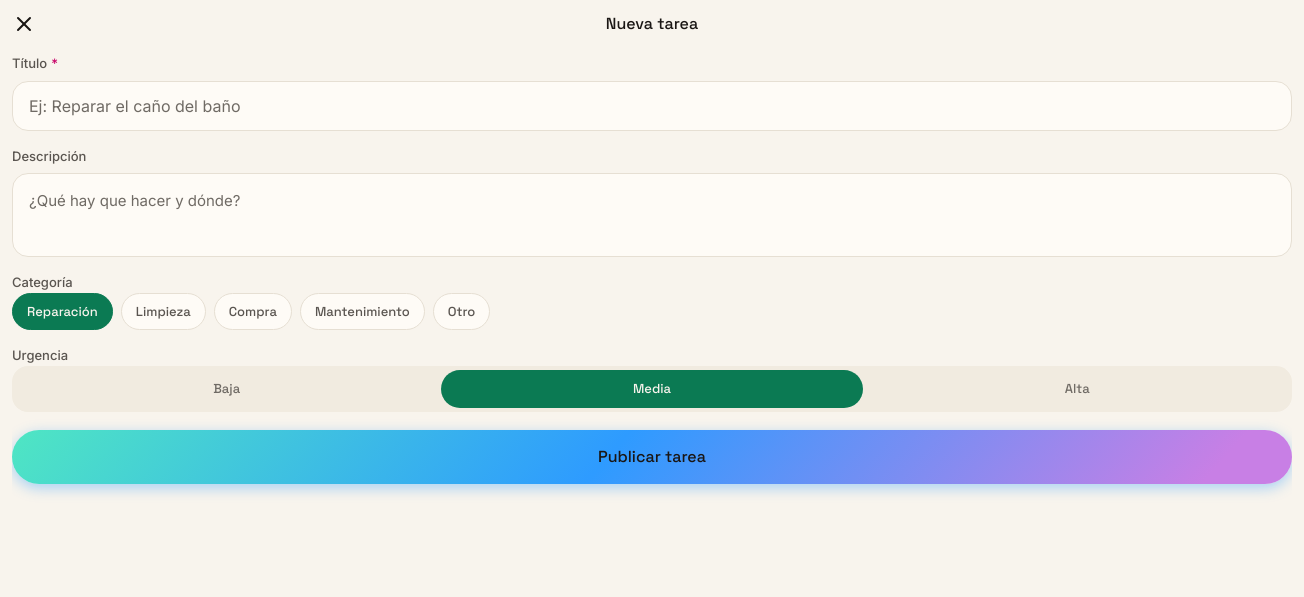
Test: NewTaskForm — Category (AC4) › asks which one only while Otro is checked (ZER-208)
Check: the field labelled "¿Cuál?" is not shown
Click the checkbox labelled "Otro" at (462, 311), box [433, 292, 490, 330]
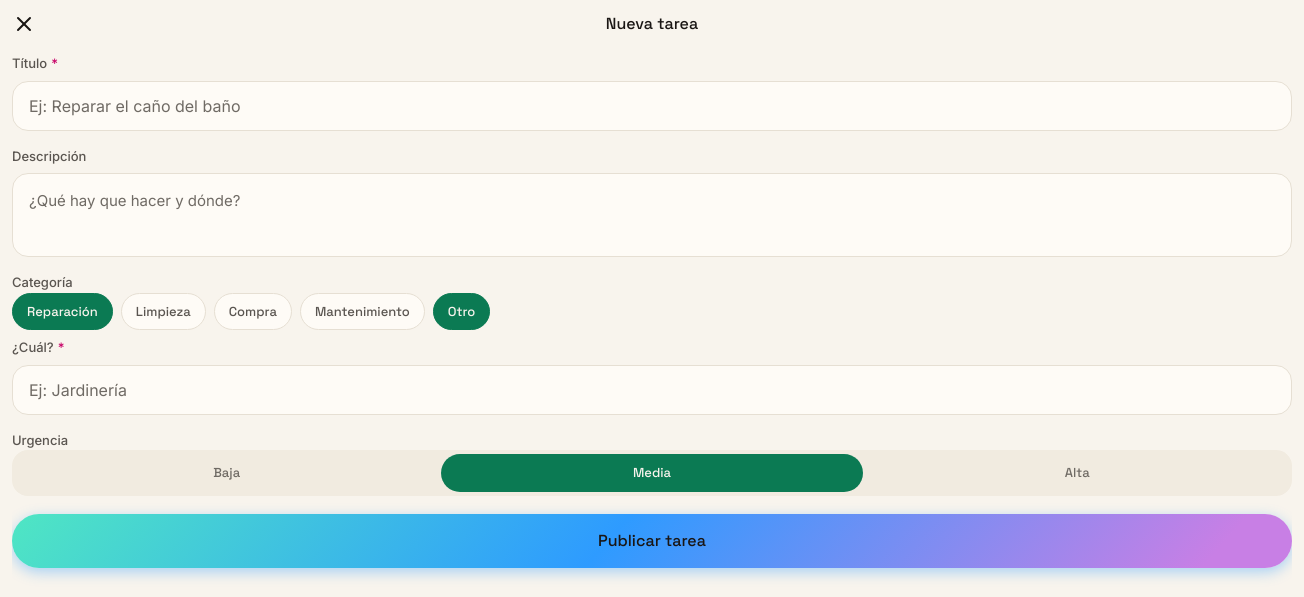
Click the checkbox labelled "Otro" at (462, 311), box [433, 292, 490, 330]
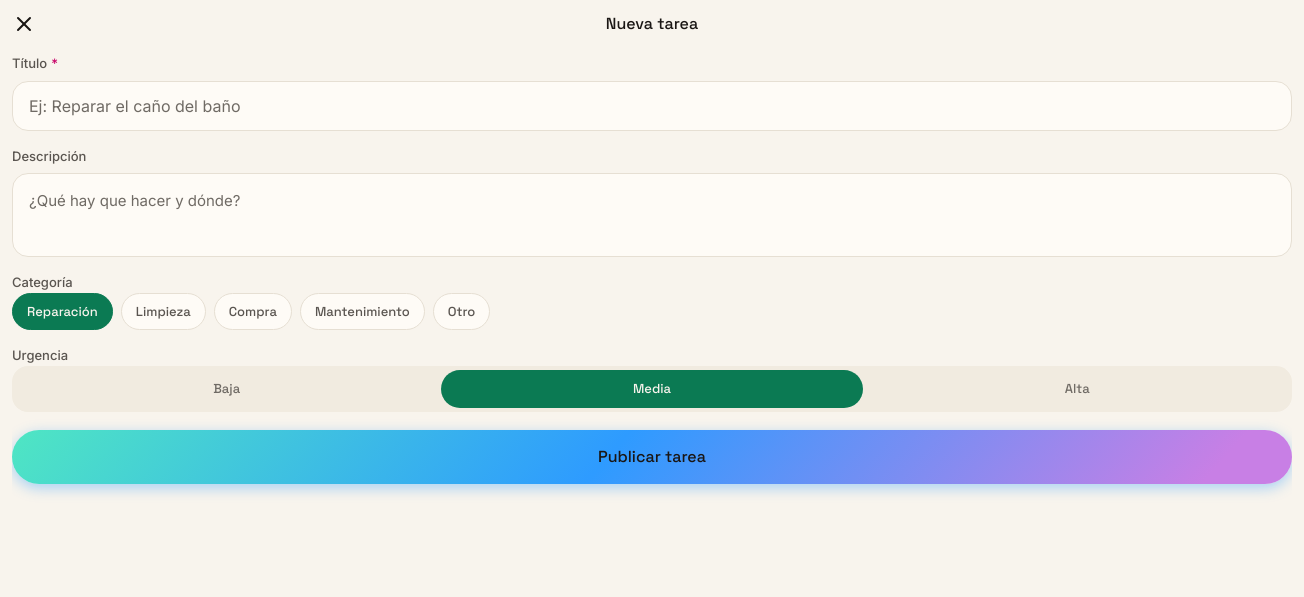
Check: the label labelled "¿Cuál?" is gone
